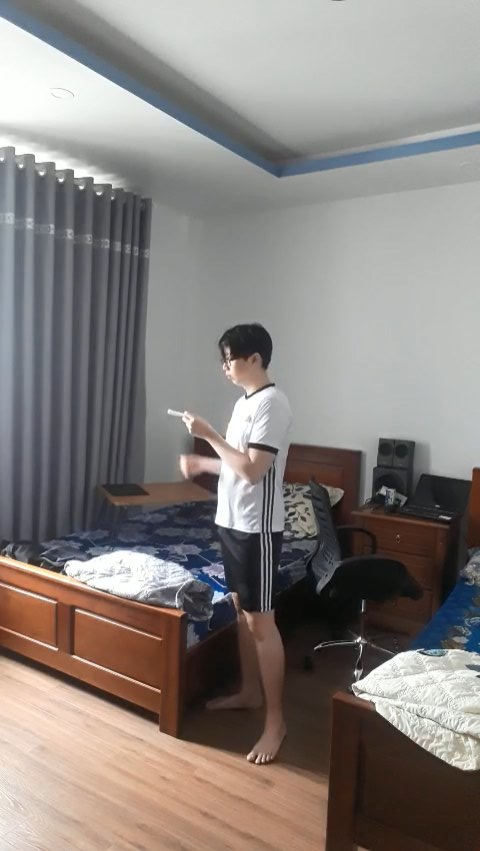cigarette: (166, 406, 185, 417)
person: (175, 318, 306, 777)
